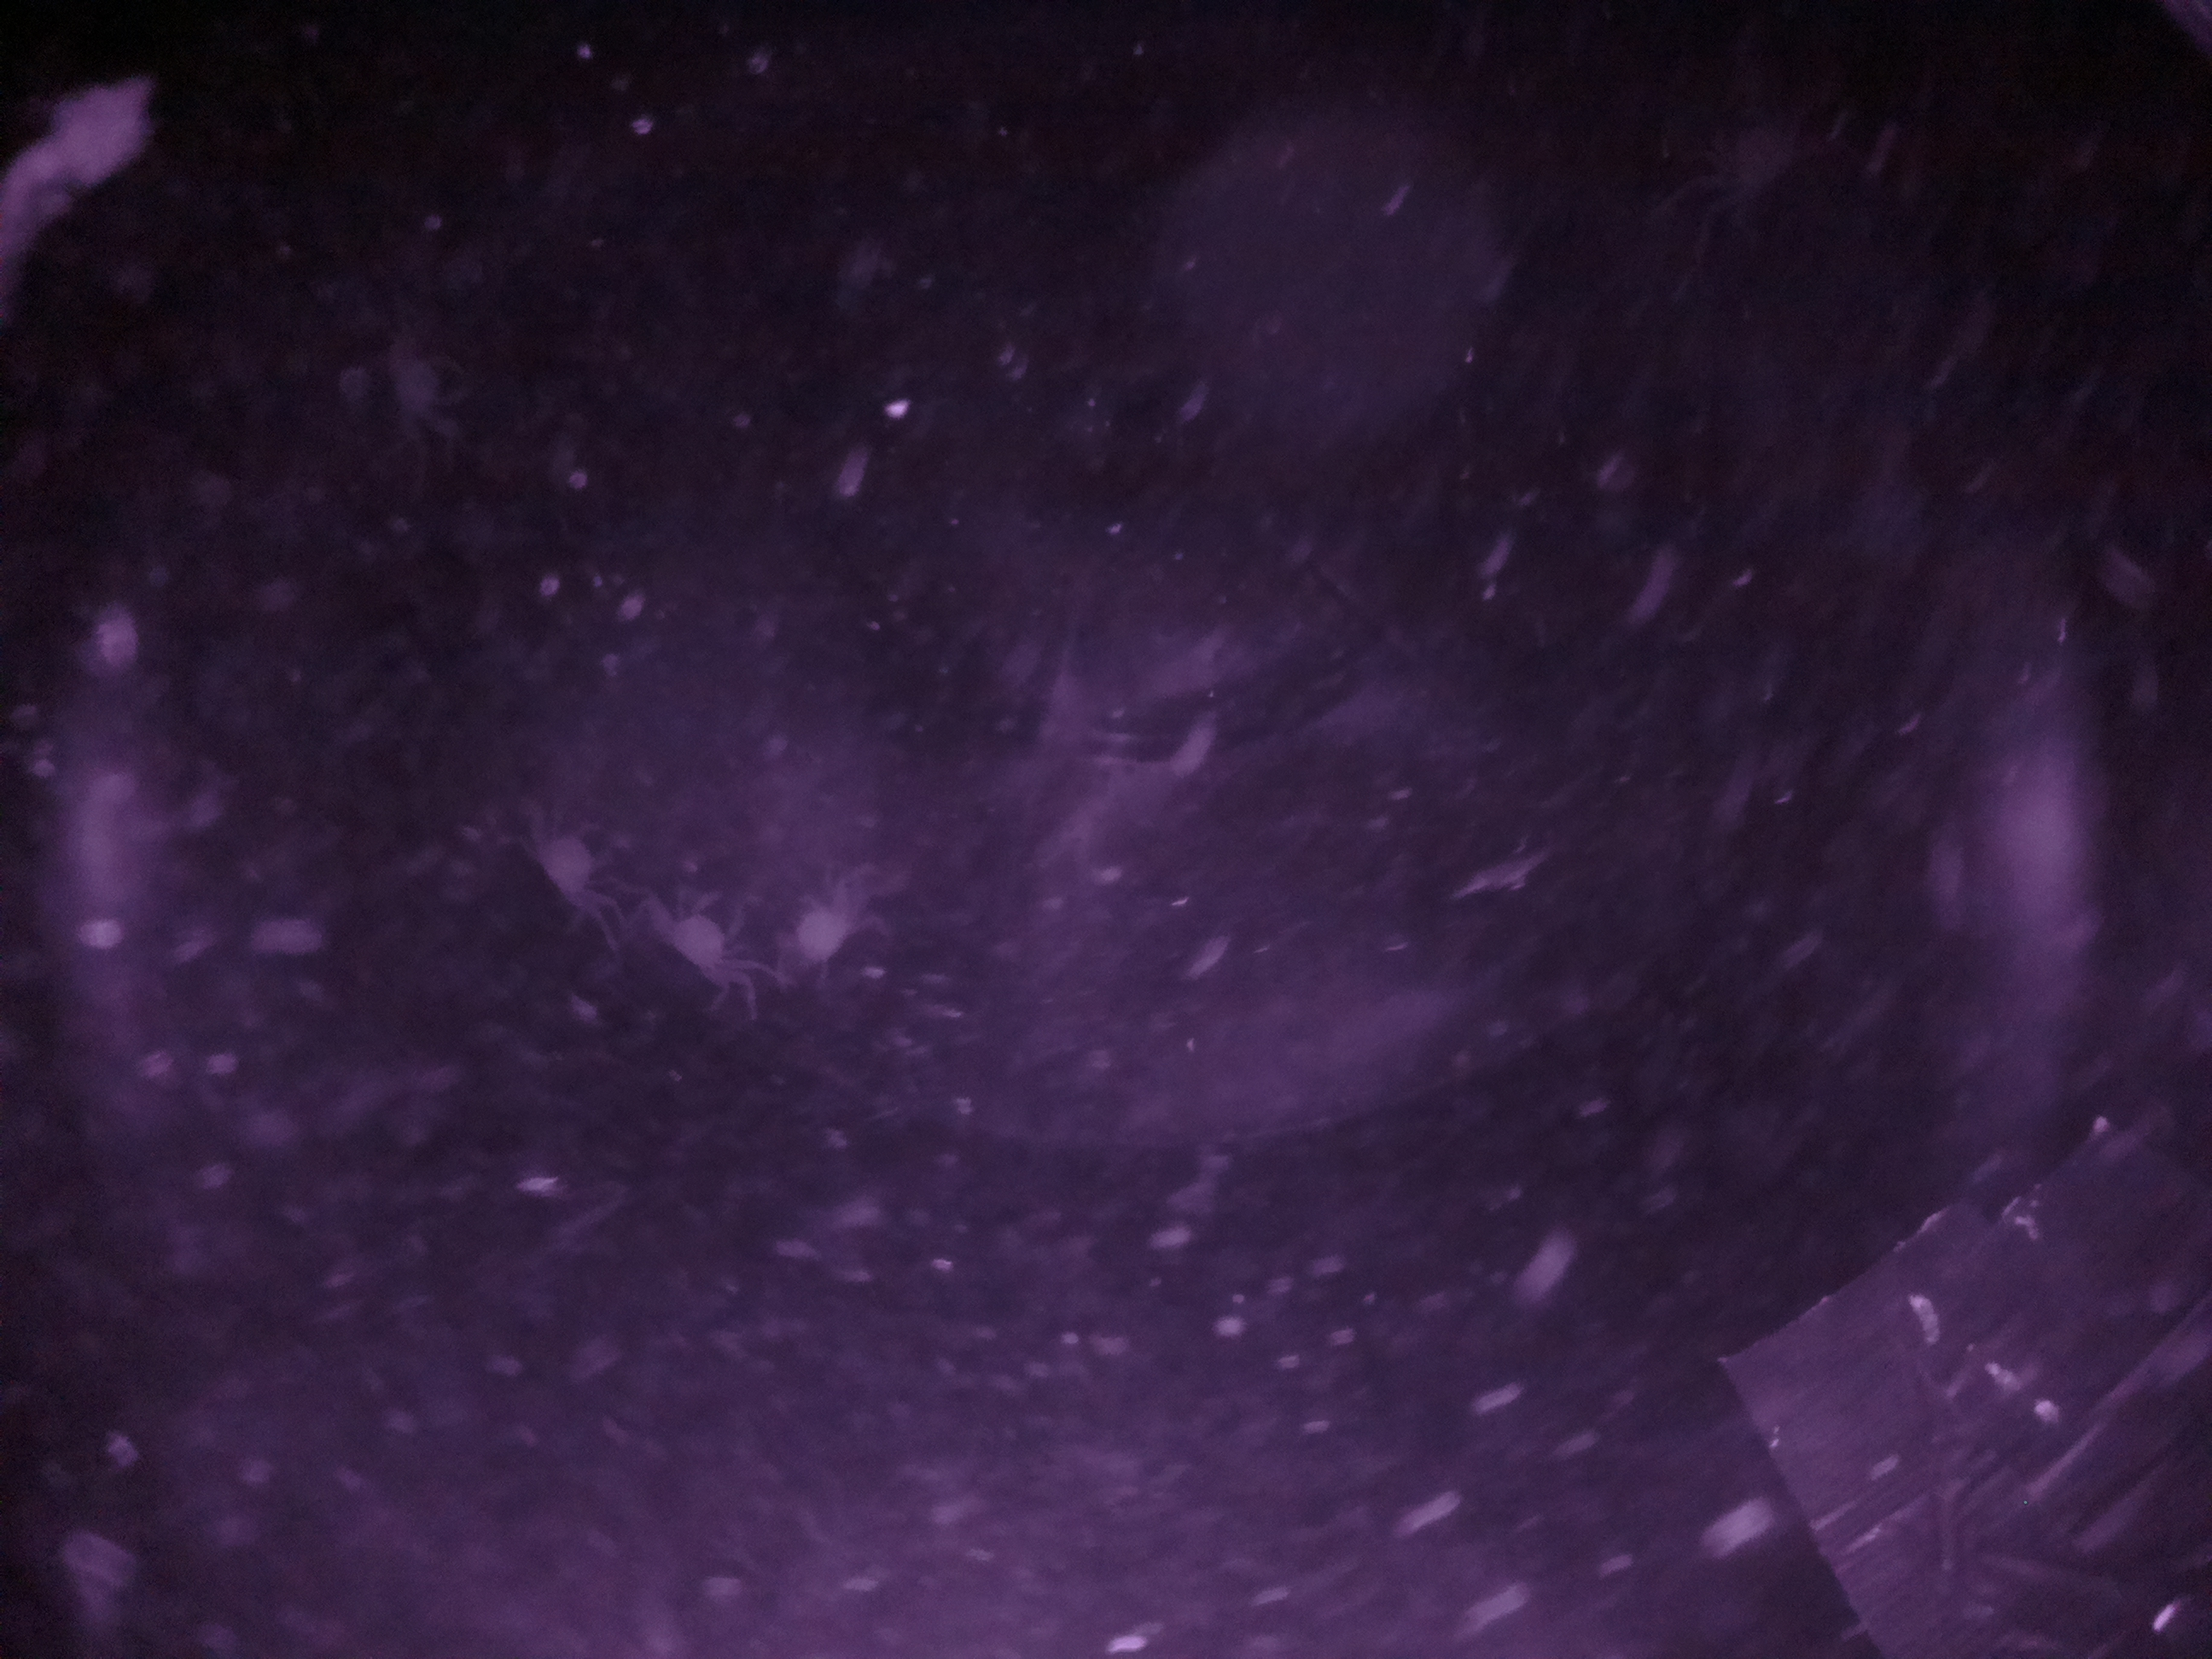Crab: (634, 861, 773, 1009)
